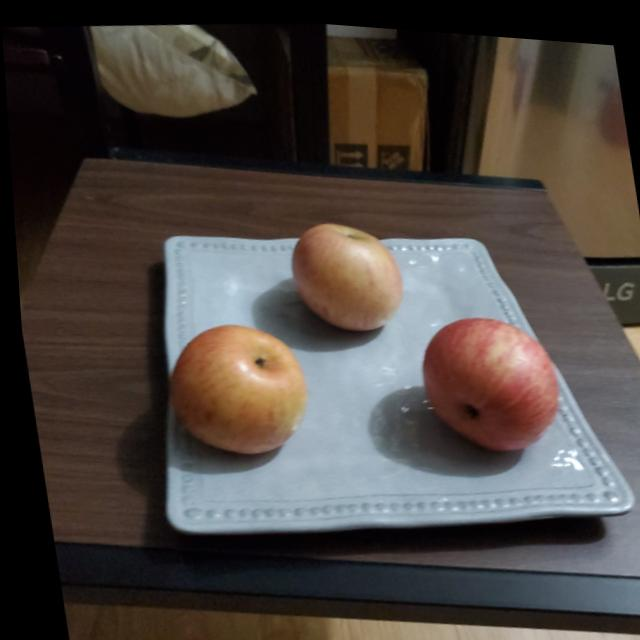apple: (410, 302, 564, 459), (156, 312, 310, 465), (284, 212, 407, 335)
